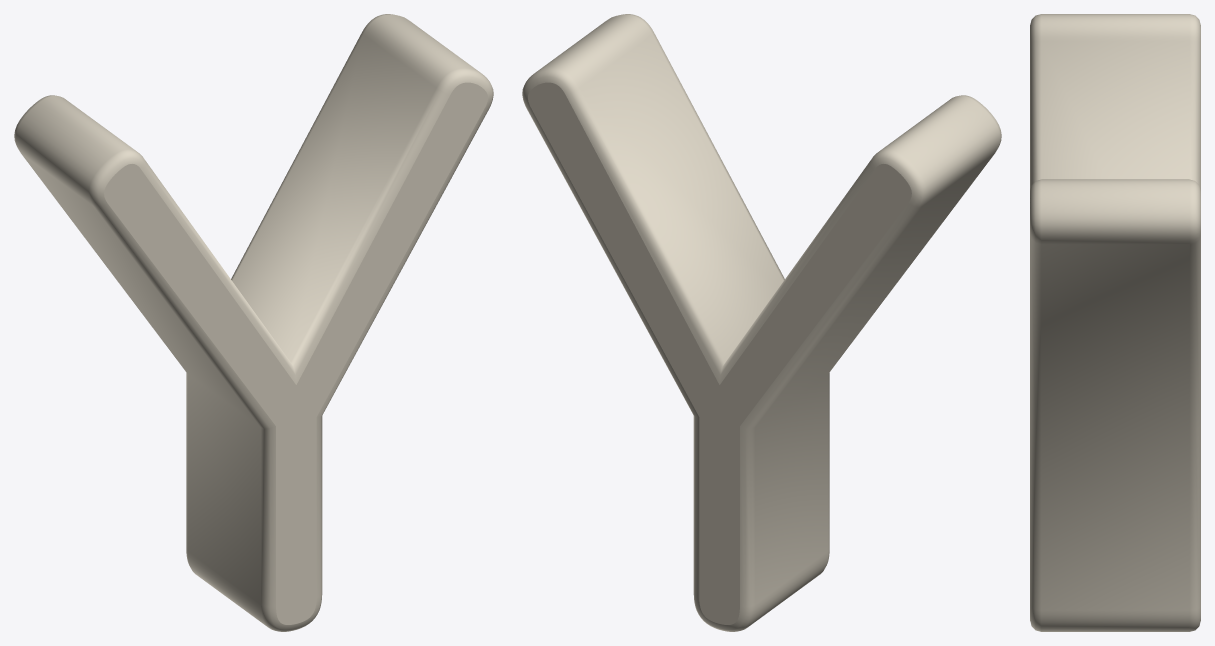
The model's file is letter_y.glb.
The picture shows the model from 3 angles, left to right: view 1: azimuth 30°, elevation 25°; view 2: azimuth 150°, elevation 25°; view 3: azimuth 270°, elevation 25°; orthographic projection.
Parts seen in each view (by area): view 1: color_body; view 2: color_body; view 3: color_body.
Part boxes in pixels (x1=…): color_body: x1=14, y1=14, x2=493, y2=631; color_body: x1=522, y1=14, x2=1001, y2=631; color_body: x1=1030, y1=14, x2=1200, y2=631.
Size of the model in its own units: 0.6697 by 0.8258 by 0.242.
